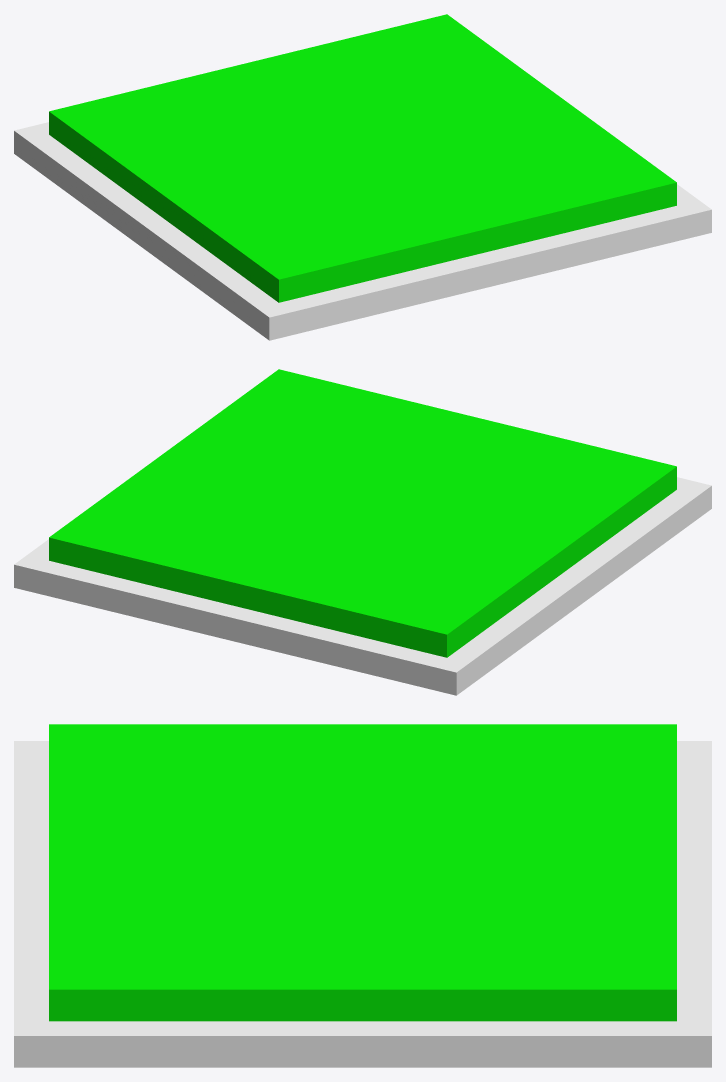
File: PressurePlate.FBX
3 renders of one model, top to bottom at view 1: azimuth 30°, elevation 25°; view 2: azimuth 150°, elevation 25°; view 3: azimuth 270°, elevation 25°, orthographic. The views are drawn at different scales.
Parts seen in each view (by area): view 1: PressurePlateTopGreen, PressurePlateBody; view 2: PressurePlateTopGreen, PressurePlateBody; view 3: PressurePlateTopGreen, PressurePlateBody.
Boxes of the visible parts, x1,y1,x2,y2 form: PressurePlateTopGreen: (49,14,676,302); PressurePlateBody: (14,122,711,340); PressurePlateTopGreen: (49,369,676,657); PressurePlateBody: (14,477,711,695); PressurePlateTopGreen: (49,724,676,1021); PressurePlateBody: (14,741,711,1067).
Size of the model in its own units: 2 by 0.2 by 2.
